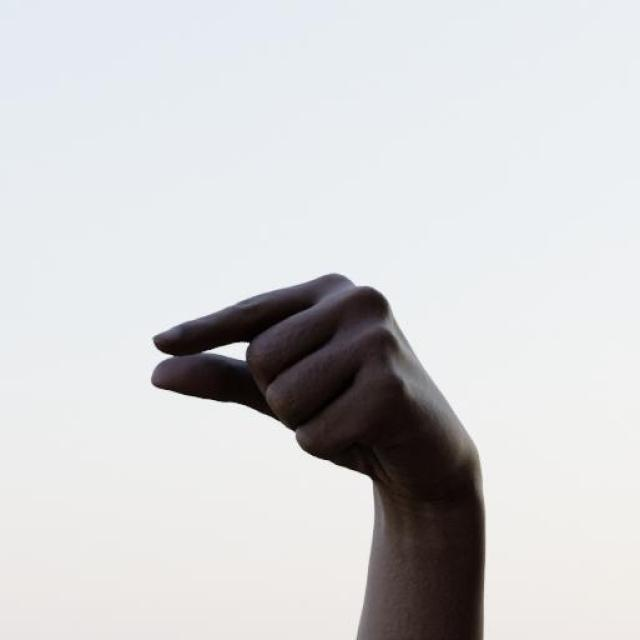G: (142, 268, 484, 488)
